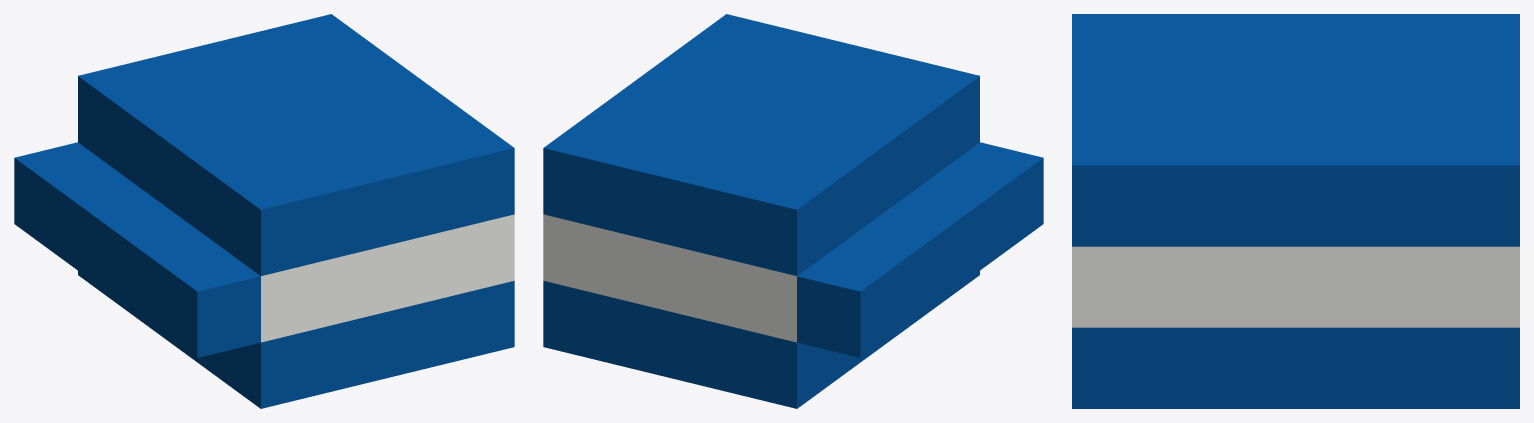
The model's file is book3.obj.
The picture shows the model from 3 angles, left to right: view 1: azimuth 30°, elevation 25°; view 2: azimuth 150°, elevation 25°; view 3: azimuth 270°, elevation 25°; orthographic projection. The views are drawn at different scales.
Bounding box in the file's own units: 0.5 × 0.3 × 0.5.
Materials: 1 (1 with a texture image).
